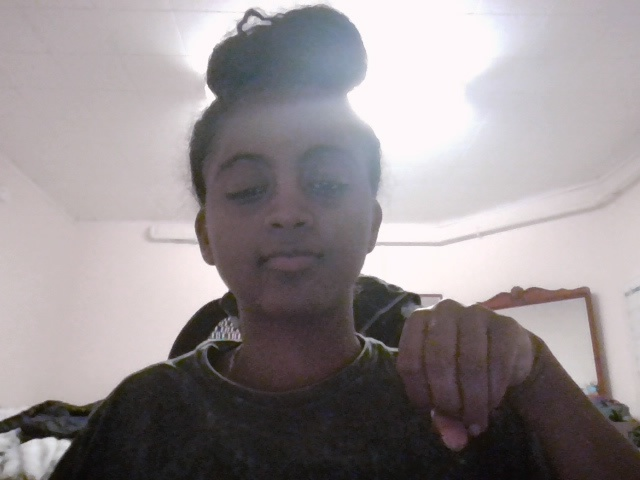Yes: (390, 300, 556, 447)
